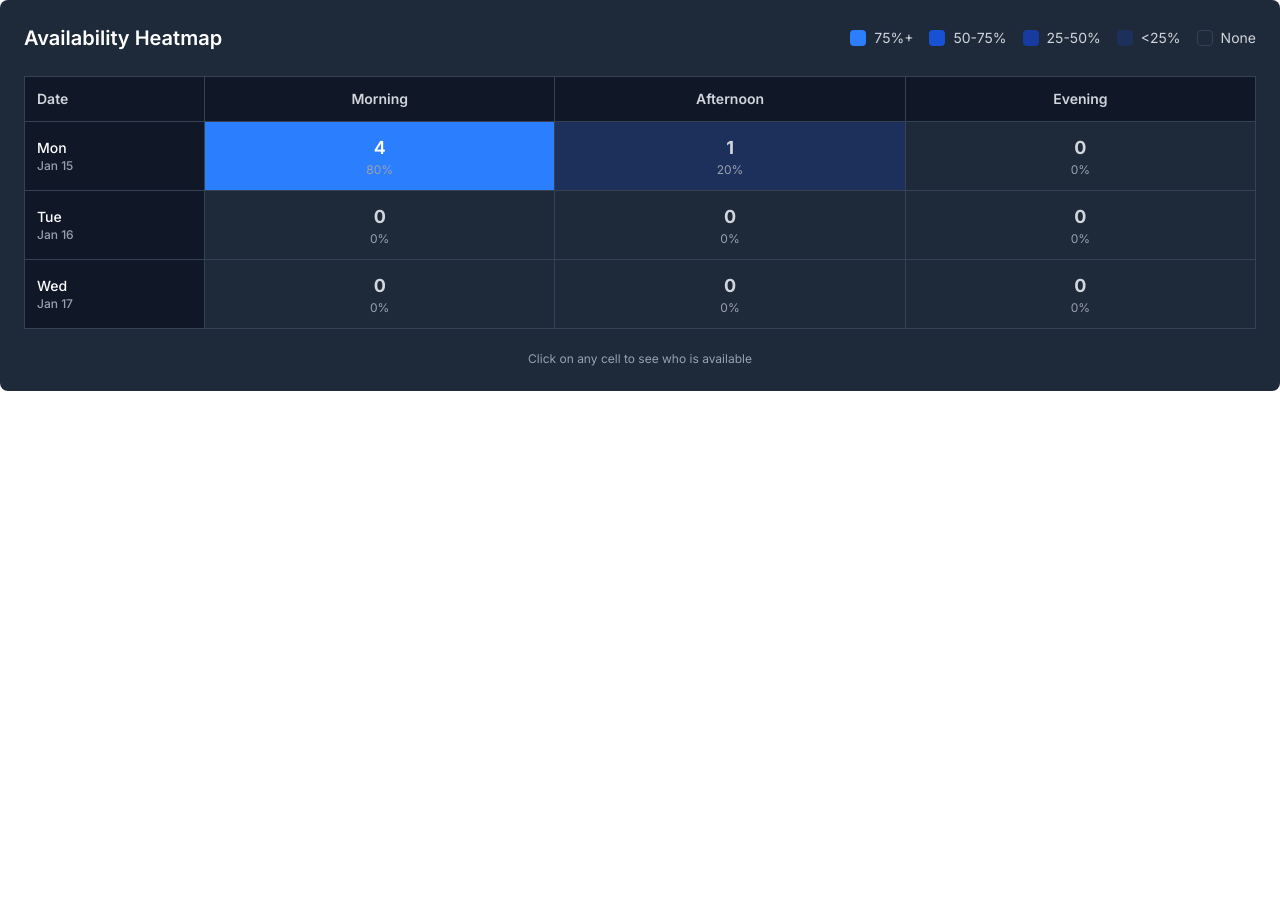
Test case: AvailabilityVisualization › Heatmap Finalization (US-028) › HEATMAP-001: Finalization Button Rendering › should not show finalize button when event is already finalized
Click the cell "4 80%" at (380, 156), box [205,122,555,190]
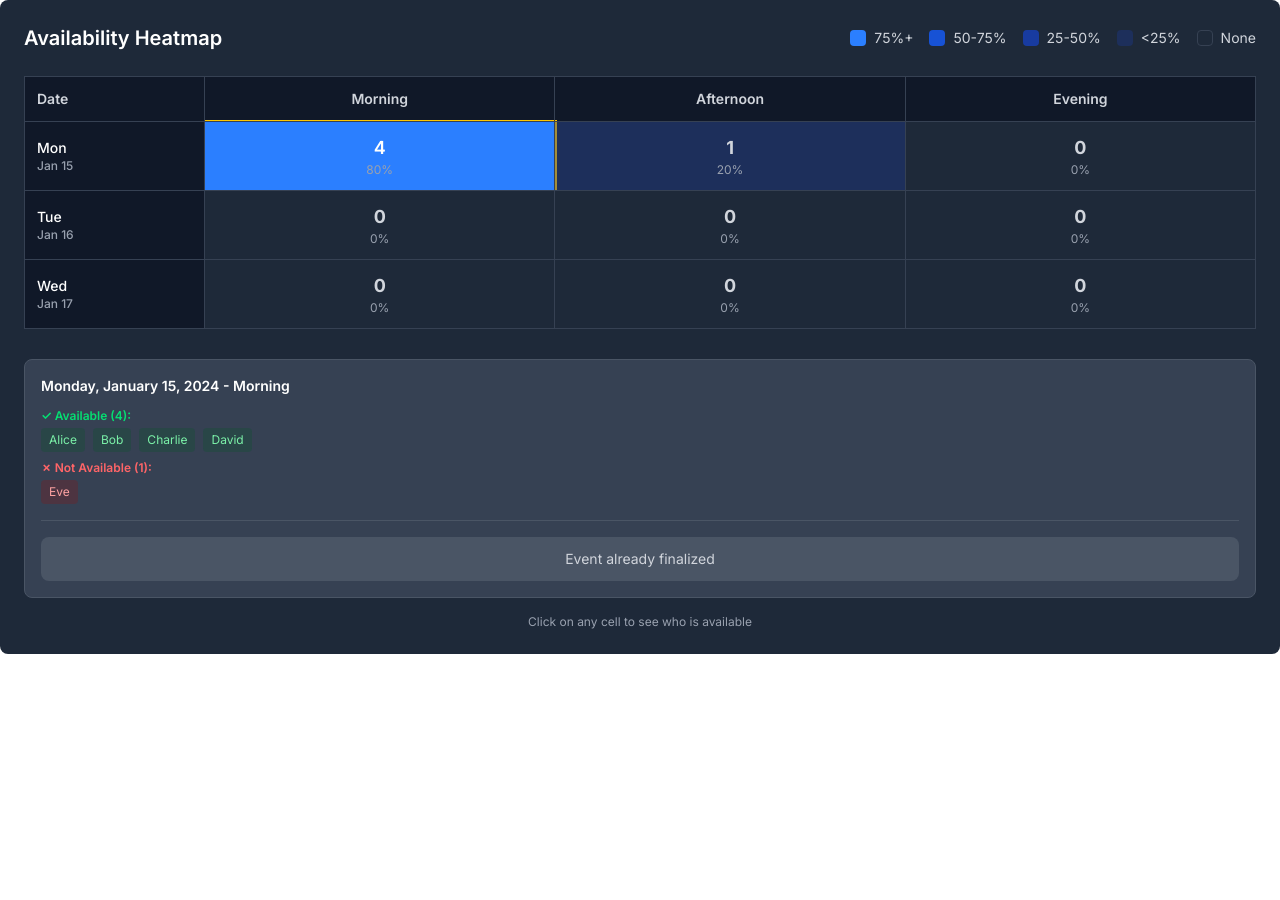
Expected: the text "Event already finalized" is shown, [41,537,1239,581]
